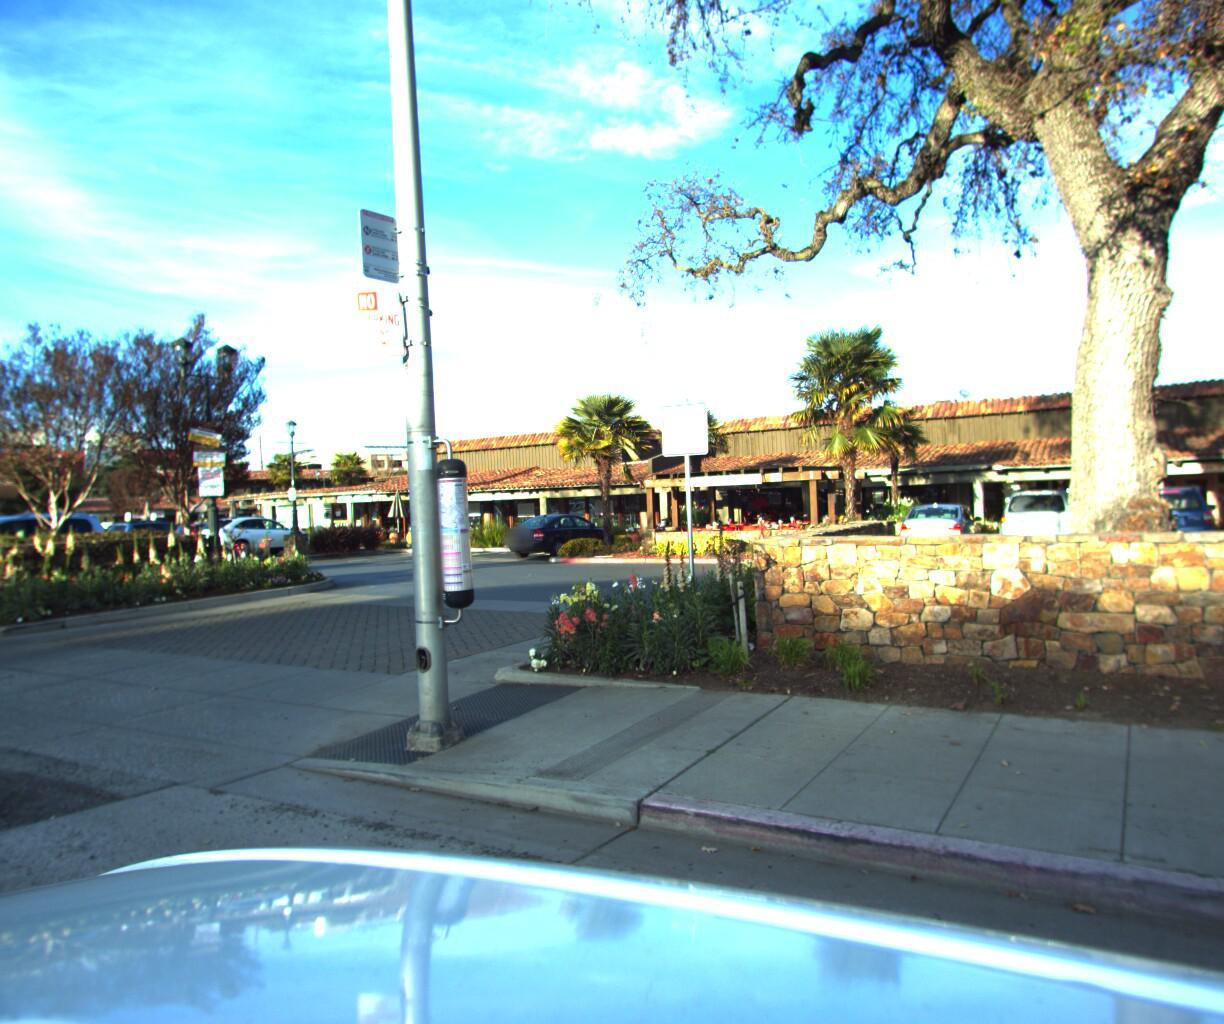car: (0, 505, 122, 587), (0, 522, 68, 601)
